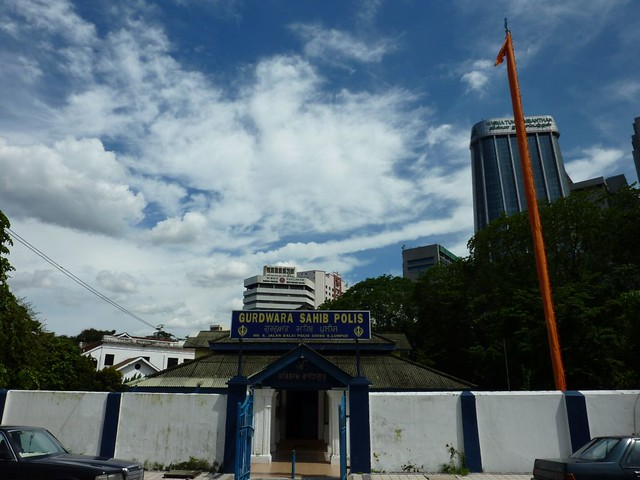Gurdwara: (218, 263, 370, 448)
